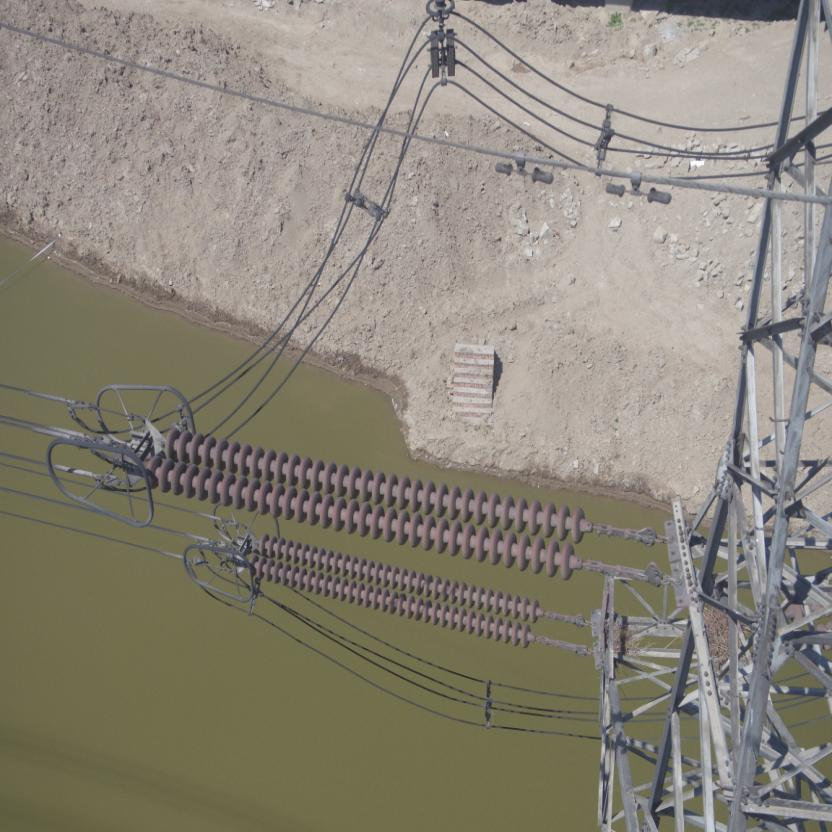insulator: (135, 421, 628, 585), (237, 529, 557, 650)
